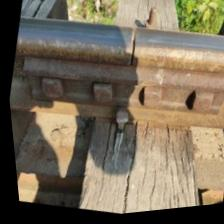person: (95, 11, 169, 87)
